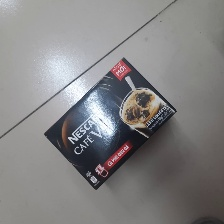CF Viet: (44, 58, 179, 189)
